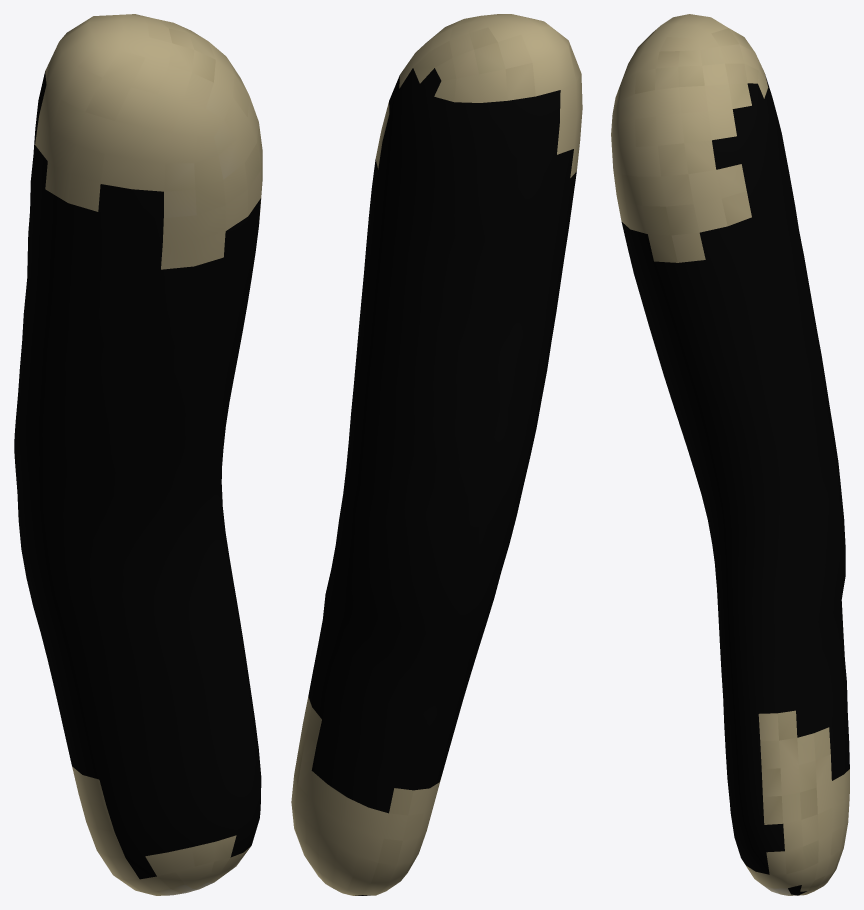
The picture shows the model from 3 angles, left to right: view 1: azimuth 30°, elevation 25°; view 2: azimuth 150°, elevation 25°; view 3: azimuth 270°, elevation 25°; orthographic projection. The views are drawn at different scales.
Parts seen in each view (by area): view 1: CC R13; view 2: CC R13; view 3: CC R13.
Boxes of the visible parts, x1=… form: CC R13: x1=14, y1=14, x2=262, y2=895; CC R13: x1=291, y1=14, x2=582, y2=895; CC R13: x1=611, y1=14, x2=849, y2=895.
Size of the model in its own units: 1.65 by 5.8 by 1.53.
